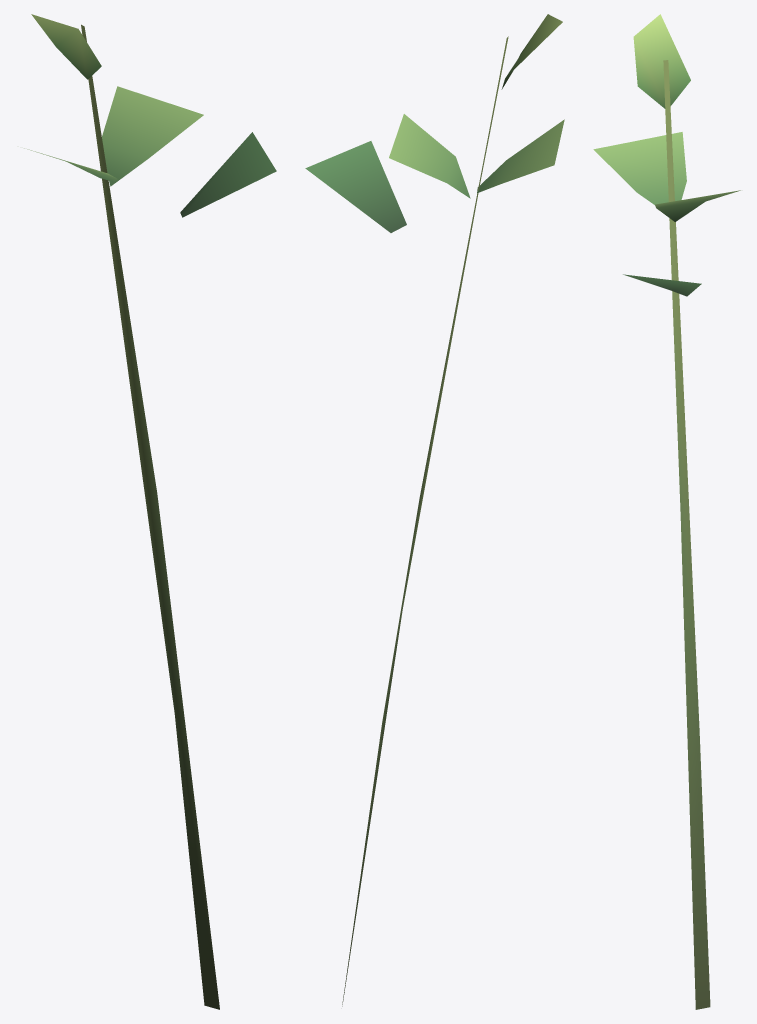
Rendered from NettlePatch_LOD3.glb.
3 renders of one model, left to right at view 1: azimuth 30°, elevation 25°; view 2: azimuth 150°, elevation 25°; view 3: azimuth 270°, elevation 25°, orthographic. The views are drawn at different scales.
Parts seen in each view (by area): view 1: NettlePatch_LOD3; view 2: NettlePatch_LOD3; view 3: NettlePatch_LOD3.
Part boxes in pixels (<box>): NettlePatch_LOD3: <box>24,14,276,1009</box>; NettlePatch_LOD3: <box>305,14,564,1006</box>; NettlePatch_LOD3: <box>593,14,740,1009</box>.
Bounding box in the file's own units: 0.0744 × 0.3026 × 0.0451.
